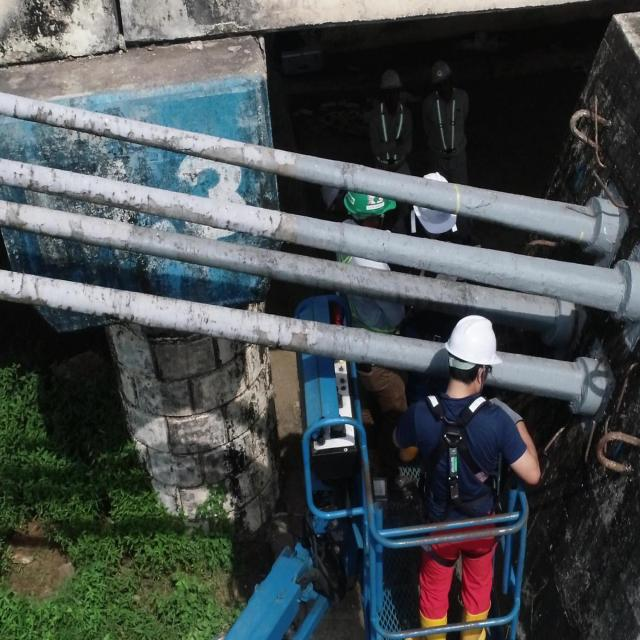crack: (16, 274, 24, 296), (351, 164, 356, 191), (34, 279, 39, 295), (277, 325, 281, 344), (38, 223, 44, 233), (13, 105, 17, 118), (261, 229, 268, 236), (226, 220, 230, 230), (82, 284, 86, 293), (128, 294, 130, 308), (109, 289, 112, 296), (249, 228, 252, 234)
